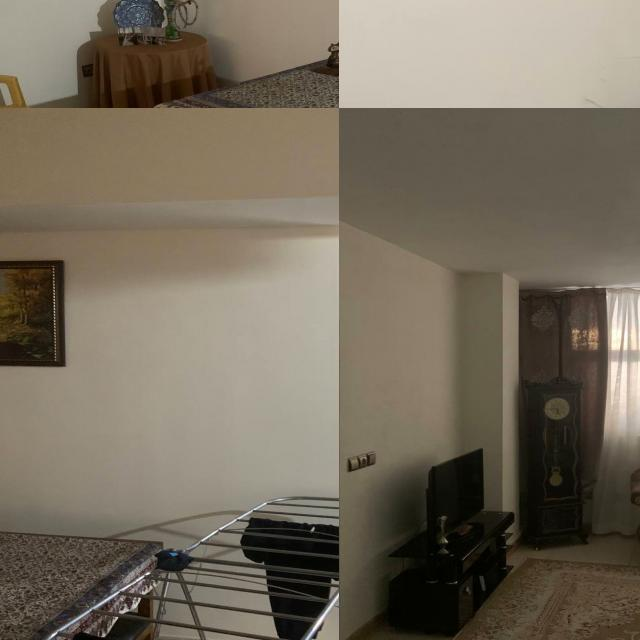Floor: (508, 515, 640, 566)
Wall: (0, 209, 339, 539), (339, 220, 517, 640), (339, 0, 640, 108)
